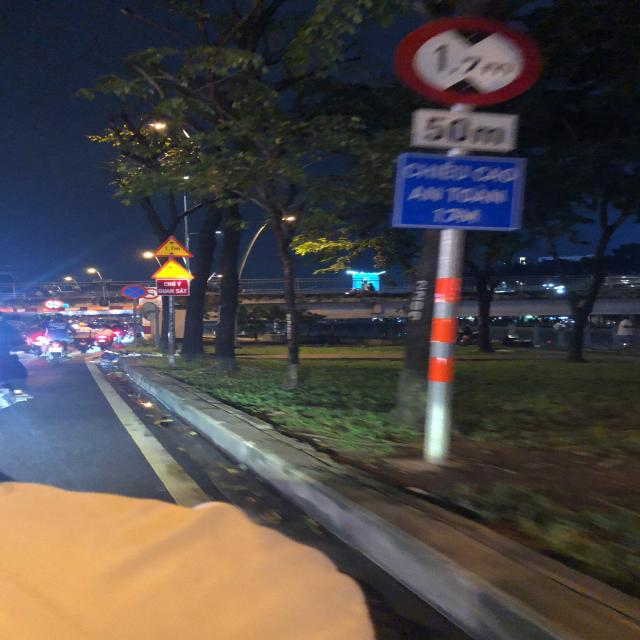Bien bao cam dung xe va do xe: (119, 281, 151, 301)
Bien bao chieu cao tinh khong thuc te: (149, 234, 195, 258)
Bien bao han che chieu cao: (392, 10, 557, 107)
